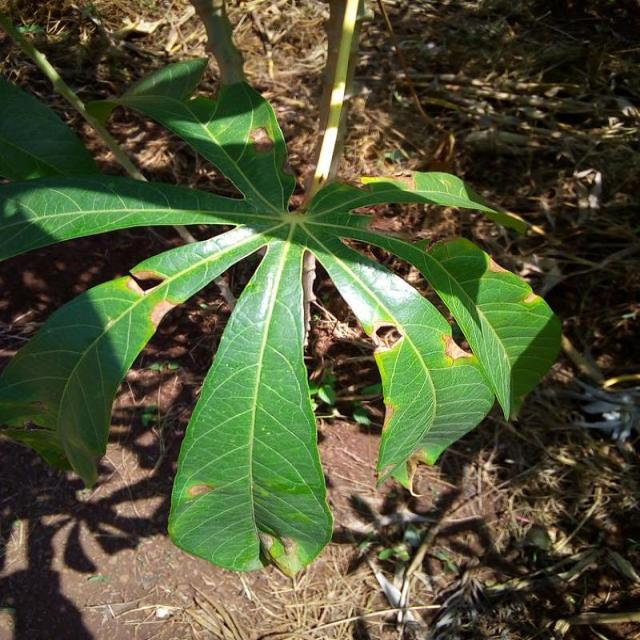cassava leaf: (166, 236, 334, 577), (0, 273, 158, 489)
